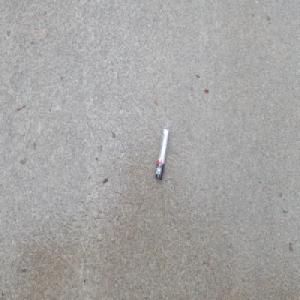Battery: (155, 126, 169, 180)
